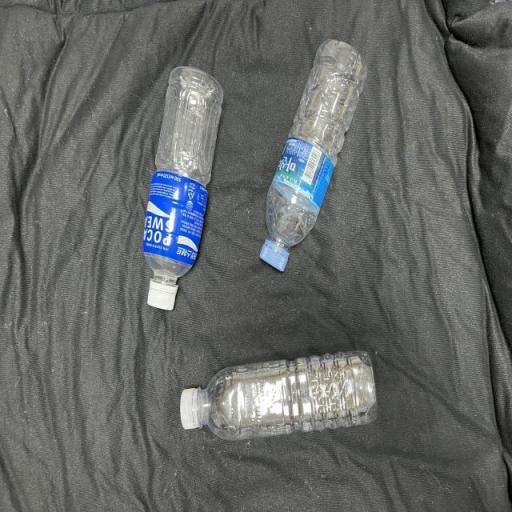plastic: (257, 36, 371, 278), (141, 62, 225, 316), (178, 348, 380, 446)
